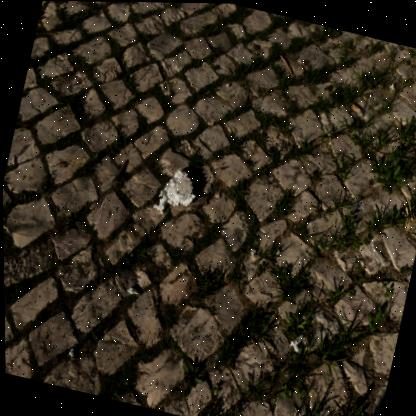Waste: (152, 168, 195, 214), (290, 340, 298, 352), (126, 287, 139, 294), (68, 348, 73, 357), (249, 247, 255, 254)
